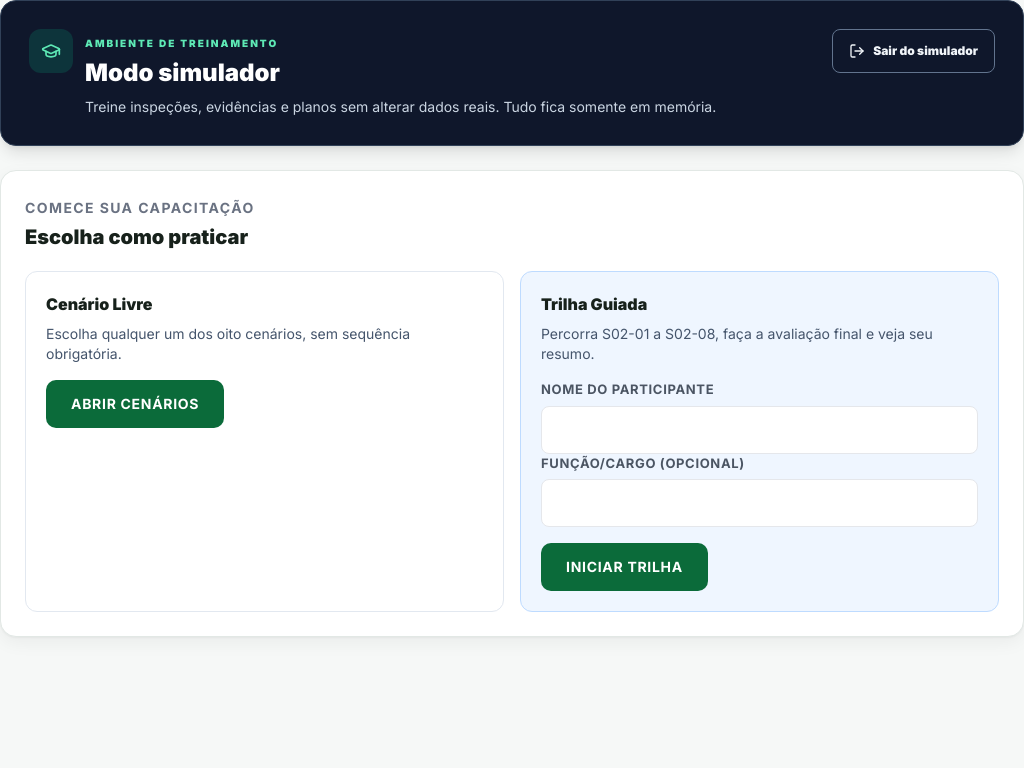
Test: simulator navigation › returns from the free catalog to mode selection
Click the button "Abrir cenários": point(135, 404) [46, 380, 224, 428]
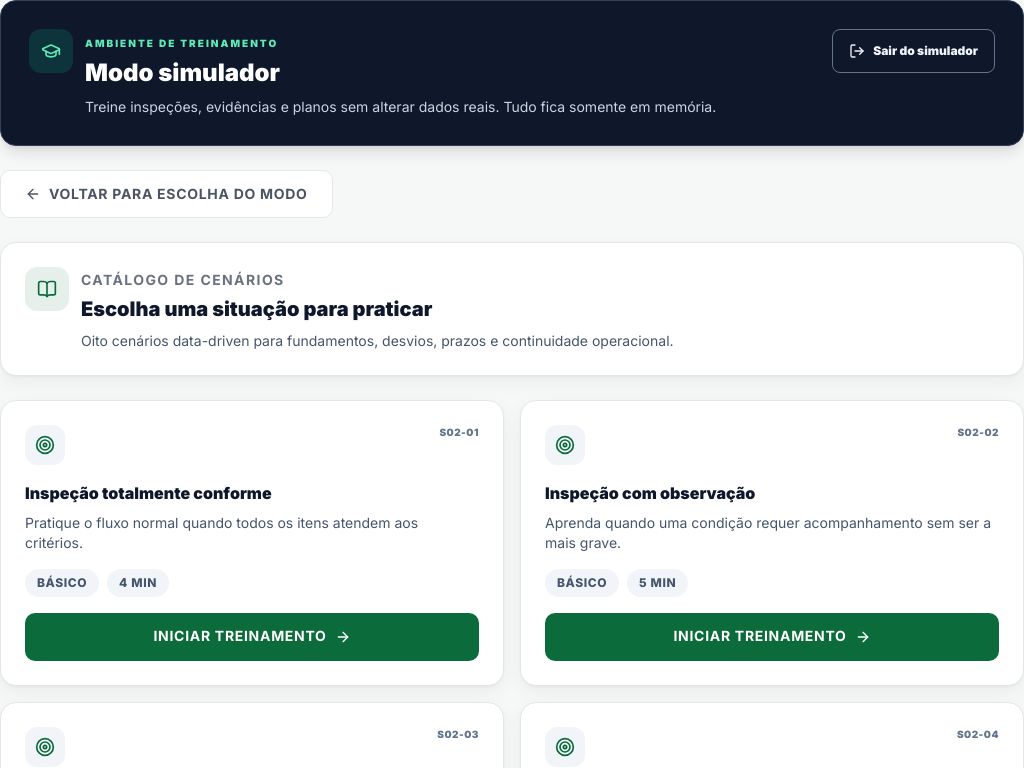
Result: the text "Catálogo de cenários" is shown at [81, 271, 285, 288]
Click the button "Voltar para escolha do modo": point(166, 194) [0, 170, 332, 218]
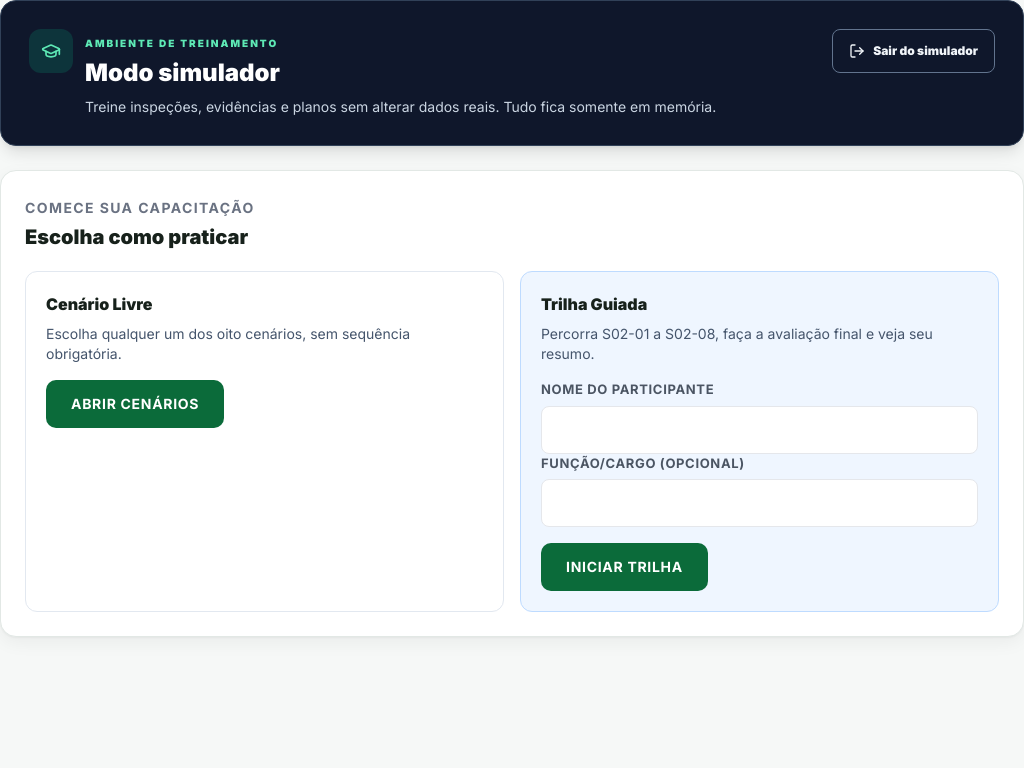
Result: the heading "Escolha como praticar" is shown at [25, 225, 248, 249]
